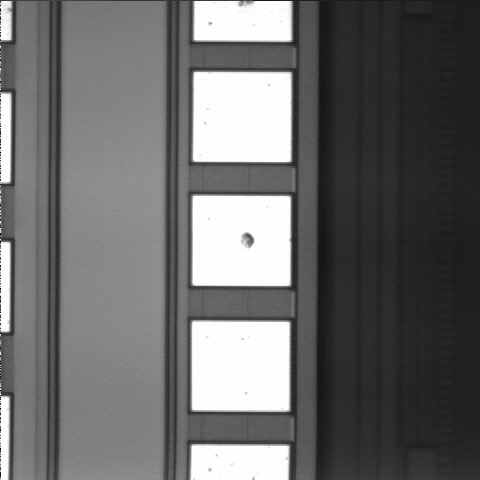pad: (192, 196, 291, 286), (193, 72, 291, 162), (192, 321, 290, 411)
